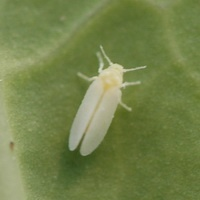insect: (69, 45, 145, 155)
